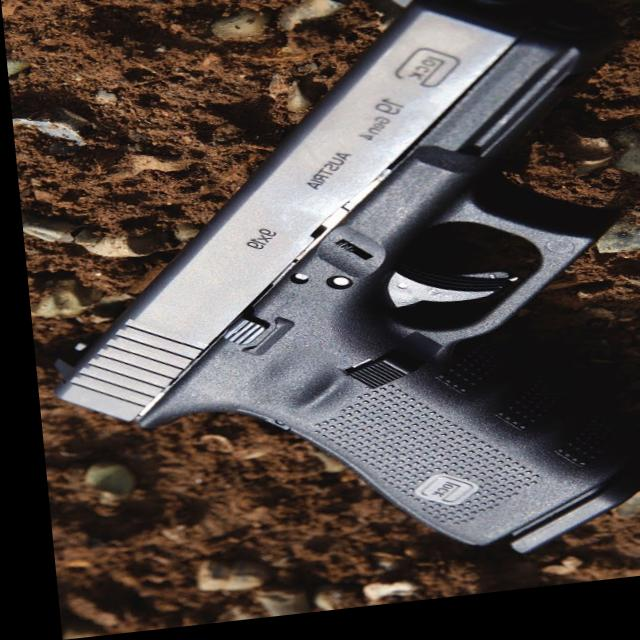handgun: (6, 0, 640, 621)
